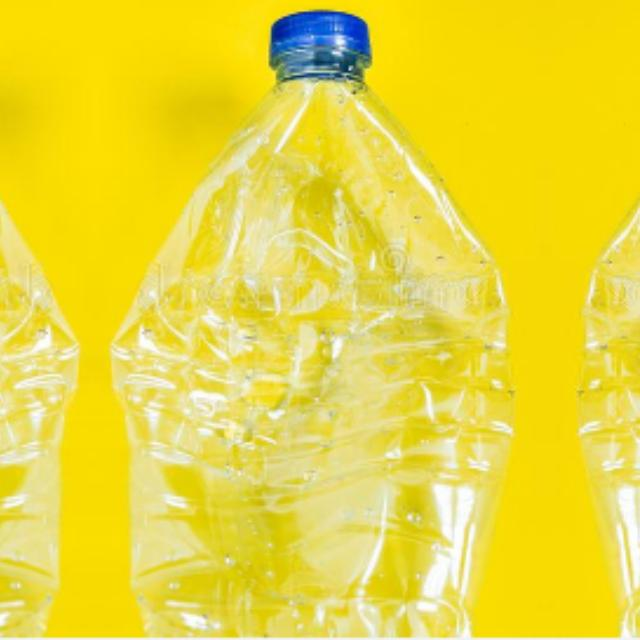Plastic: (93, 3, 500, 640), (0, 3, 94, 640), (590, 3, 640, 640)
